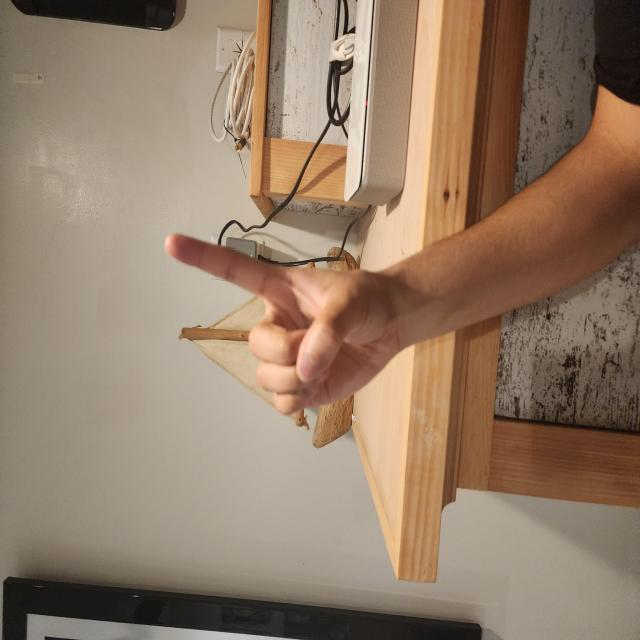D: (166, 215, 312, 543)
